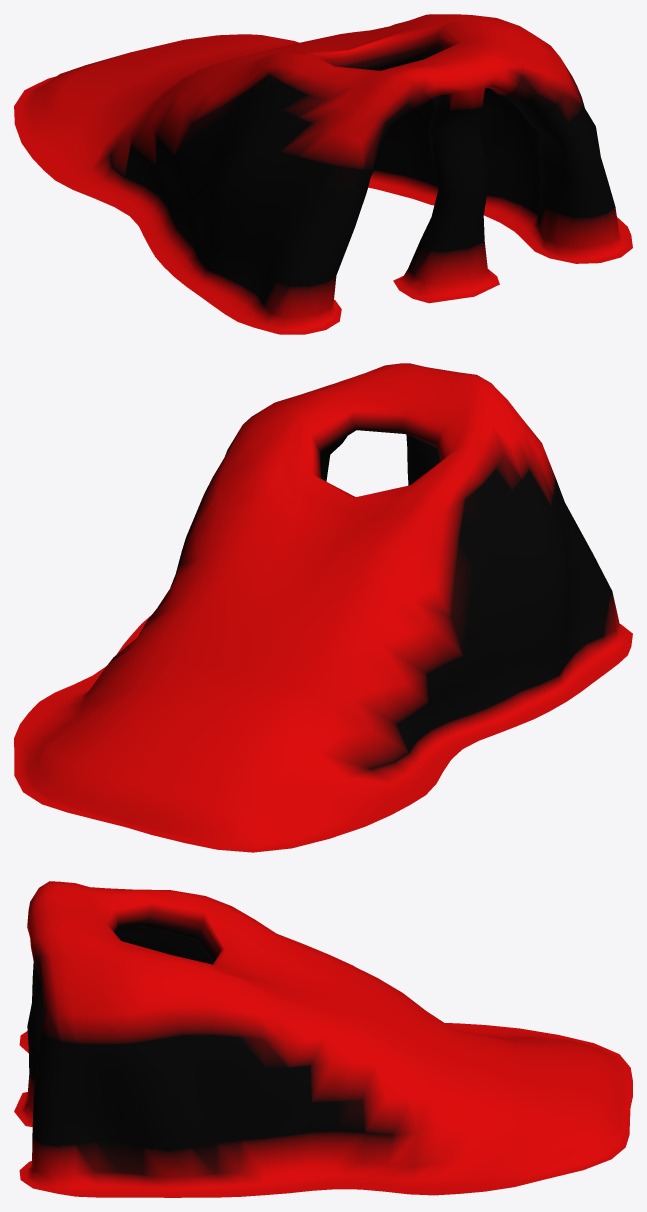
Rendered from GroundObject11D.fbx.
The picture shows the model from 3 angles, top to bottom: view 1: azimuth 30°, elevation 25°; view 2: azimuth 150°, elevation 25°; view 3: azimuth 270°, elevation 25°; orthographic projection. The views are drawn at different scales.
Parts seen in each view (by area): view 1: GroundObject11D; view 2: GroundObject11D; view 3: GroundObject11D.
Boxes of the visible parts, left/top/right/bottom form: GroundObject11D: left=14, top=14, right=632, bottom=334; GroundObject11D: left=14, top=363, right=632, bottom=852; GroundObject11D: left=14, top=881, right=632, bottom=1197.
Bounding box in the file's own units: 3.51 × 1.92 × 5.1.
